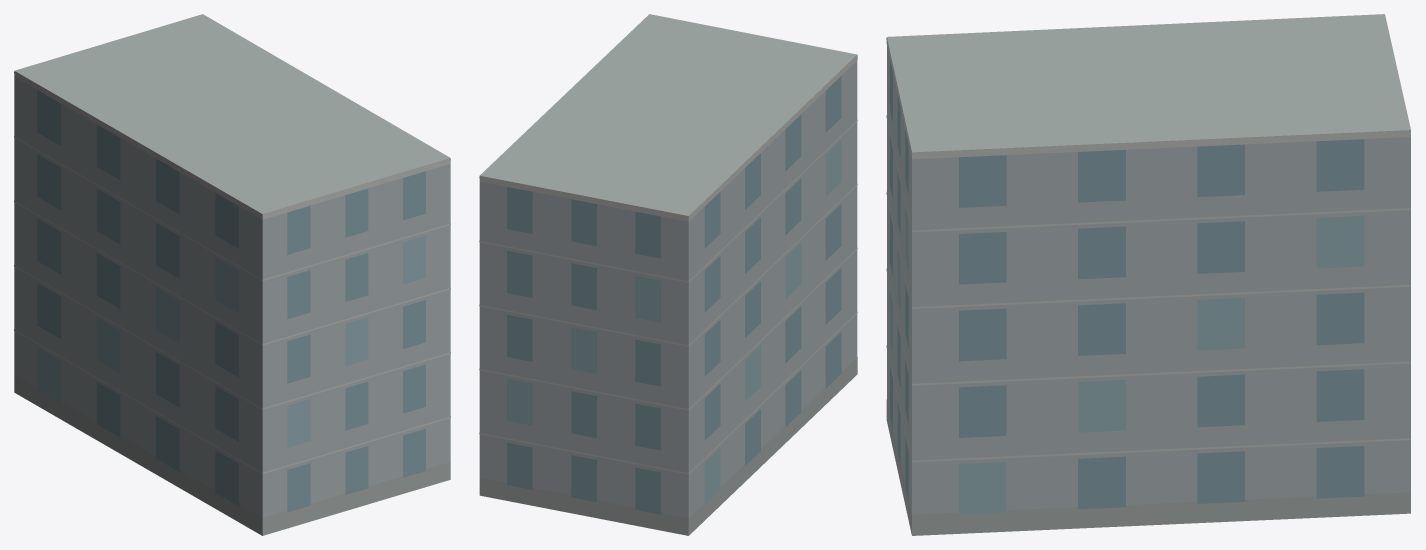
File: survey-upis-32769774.glb
The picture shows the model from 3 angles, left to right: view 1: azimuth 30°, elevation 25°; view 2: azimuth 150°, elevation 25°; view 3: azimuth 270°, elevation 25°; orthographic projection. The views are drawn at different scales.
Visible parts, largest first — view 1: survey-upis-32769774.tmp; view 2: survey-upis-32769774.tmp; view 3: survey-upis-32769774.tmp.
Boxes of the visible parts, x1=… form: survey-upis-32769774.tmp: x1=14, y1=14, x2=450, y2=535; survey-upis-32769774.tmp: x1=479, y1=14, x2=857, y2=535; survey-upis-32769774.tmp: x1=886, y1=14, x2=1410, y2=535.
Bounding box in the file's own units: 10.47 × 13.5 × 16.75.
